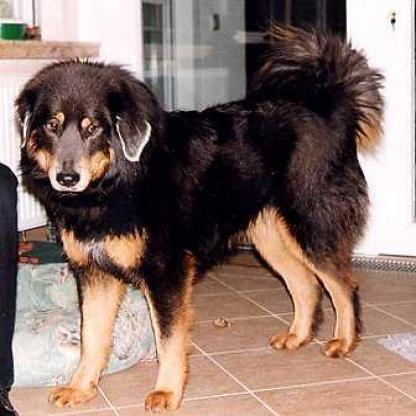Tibetan_mastiff: (13, 16, 388, 414)
